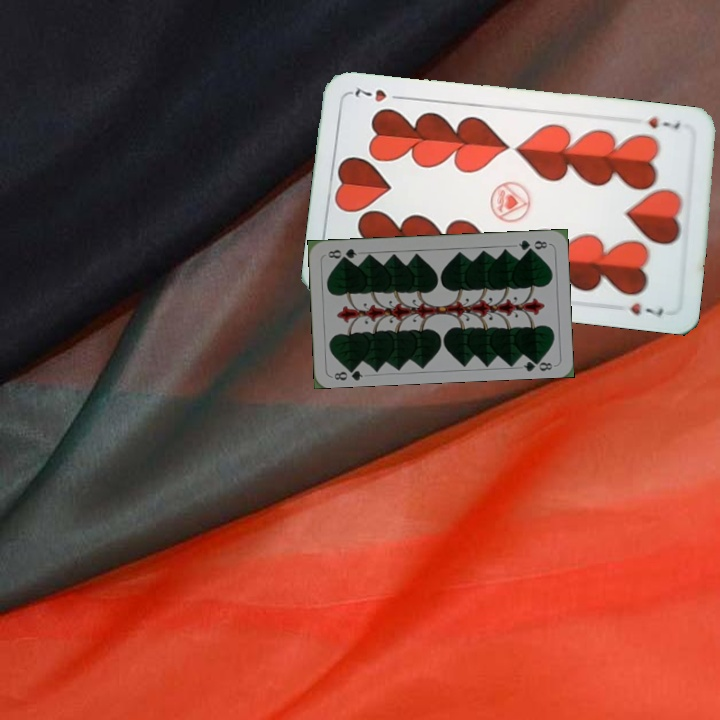G8: (330, 362, 365, 383), (514, 236, 550, 254)
H7: (644, 113, 683, 133)
